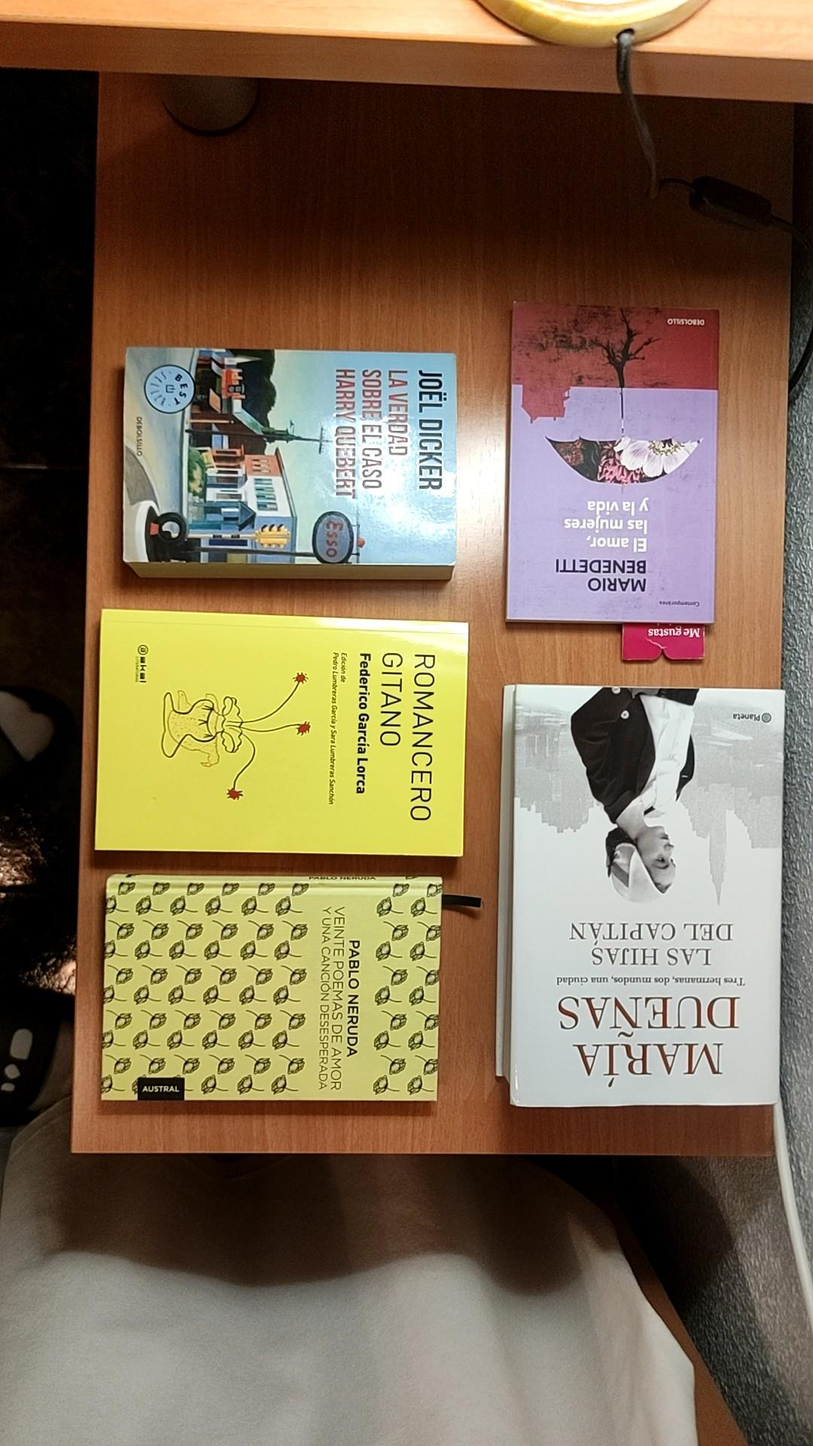book: (495, 682, 783, 1108), (101, 877, 452, 1103), (507, 306, 716, 642)
